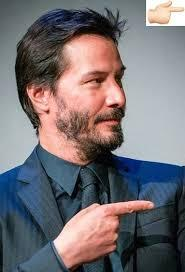Point-Right: (48, 194, 159, 271)
